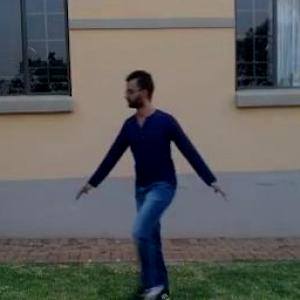land: (82, 83, 225, 272)
